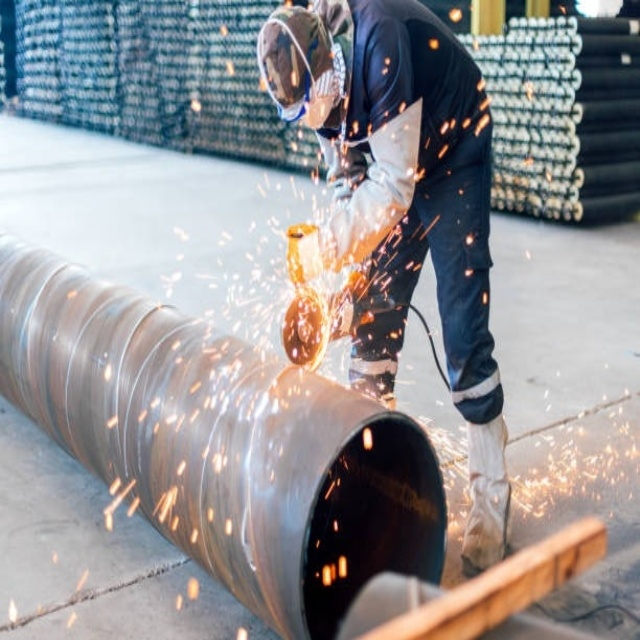Gafas: (260, 16, 319, 125)
Mascara: (294, 89, 337, 135)
